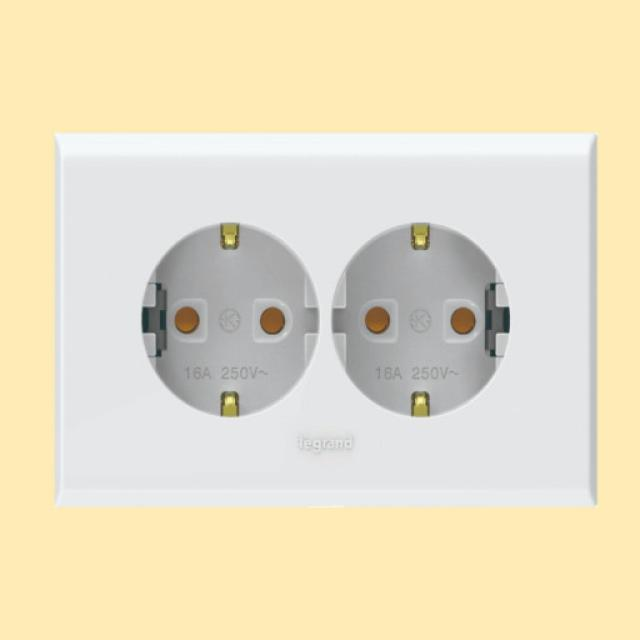typeb: (20, 98, 627, 554)
